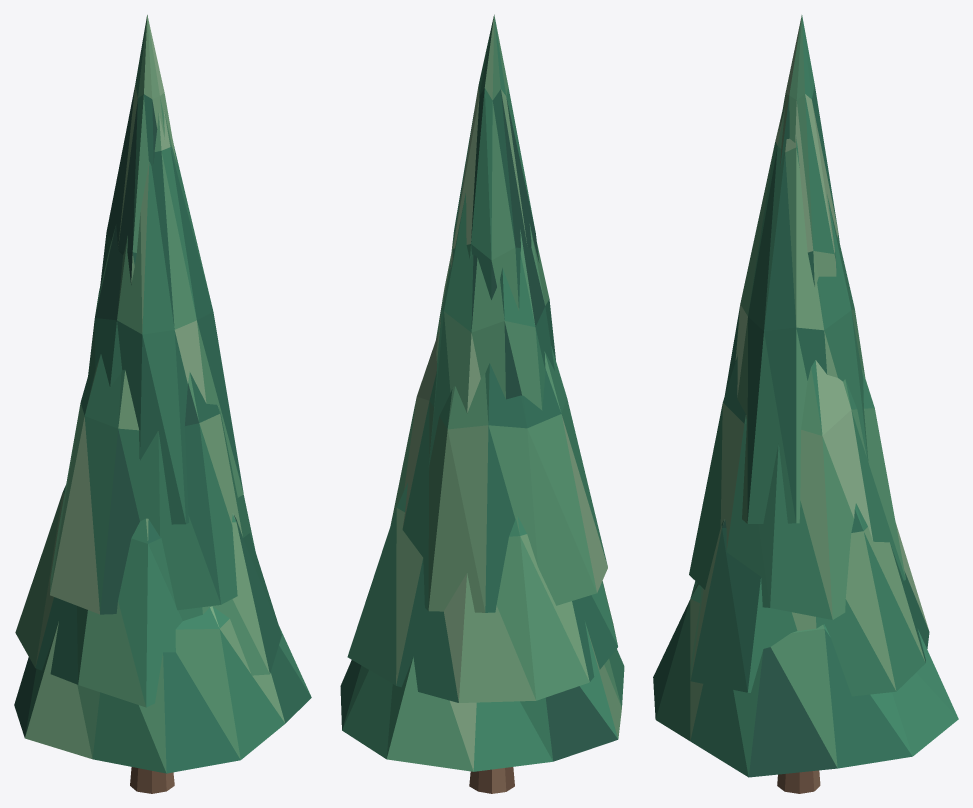
Rendered from tree.glb.
The picture shows the model from 3 angles, left to right: view 1: azimuth 30°, elevation 25°; view 2: azimuth 150°, elevation 25°; view 3: azimuth 270°, elevation 25°; orthographic projection.
Visible parts, largest first — view 1: Pine_Foliage, Pine_Trunk; view 2: Pine_Foliage, Pine_Trunk; view 3: Pine_Foliage, Pine_Trunk.
Part boxes in pixels (<box>): Pine_Foliage: <box>14,15,311,773</box>; Pine_Trunk: <box>130,767,174,793</box>; Pine_Foliage: <box>340,14,624,771</box>; Pine_Trunk: <box>469,767,514,793</box>; Pine_Foliage: <box>653,15,958,777</box>; Pine_Trunk: <box>777,770,820,793</box>.
Size of the model in its own units: 3 by 8.45 by 3.05.
